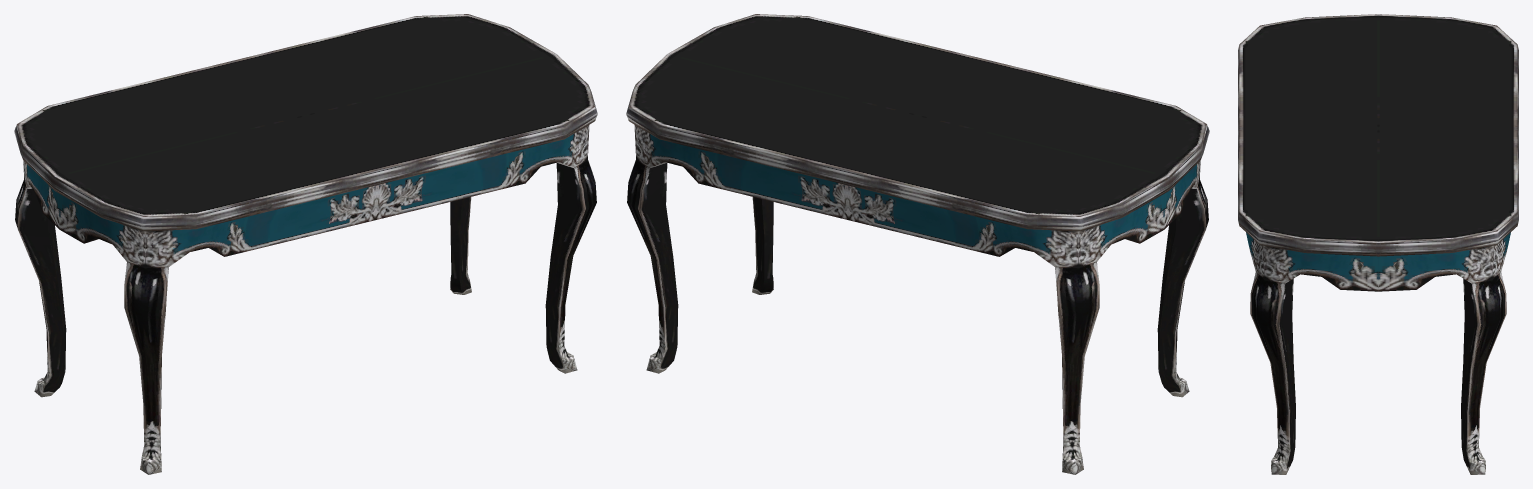
Rendered from furni_0201212_01.FBX.
The picture shows the model from 3 angles, left to right: view 1: azimuth 30°, elevation 25°; view 2: azimuth 150°, elevation 25°; view 3: azimuth 270°, elevation 25°; orthographic projection. The views are drawn at different scales.
Parts seen in each view (by area): view 1: furni_0201212_01; view 2: furni_0201212_01; view 3: furni_0201212_01.
Part boxes in pixels (<box>): furni_0201212_01: <box>14,14,597,474</box>; furni_0201212_01: <box>626,14,1209,474</box>; furni_0201212_01: <box>1238,14,1518,474</box>.
Size of the model in its own units: 157 by 78.76 by 80.8.
